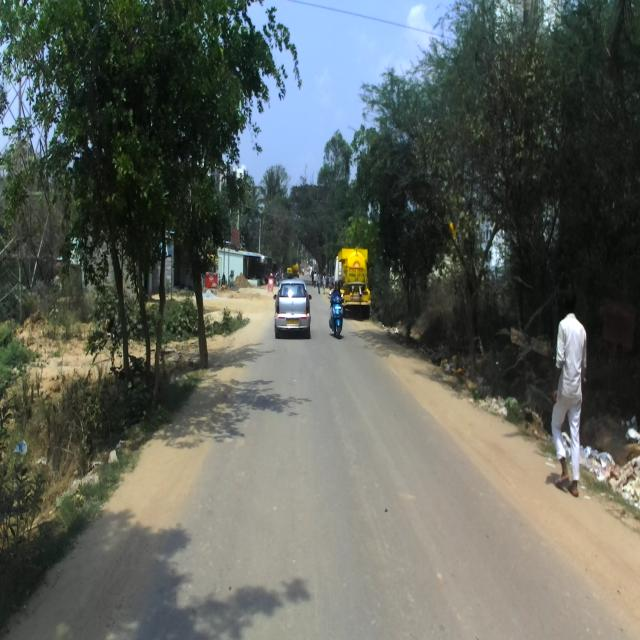car ahead at: (272, 274, 316, 346)
person ahead at: (532, 291, 597, 501)
tree ahead at: (47, 0, 272, 391)
